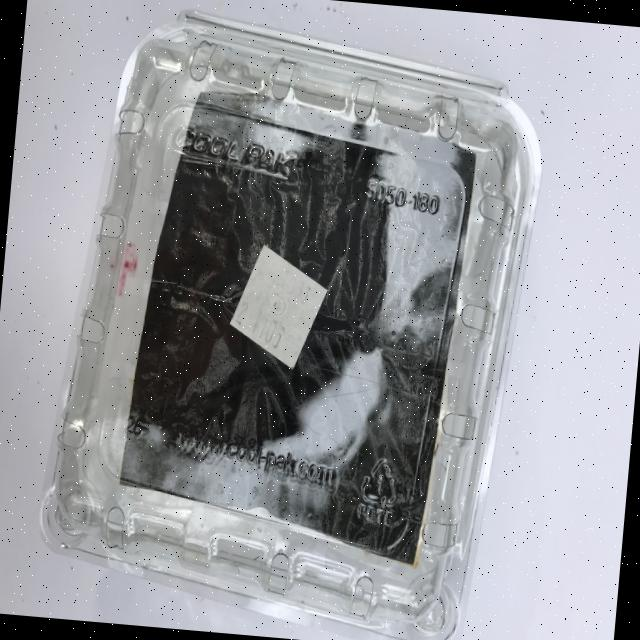plastic: (30, 0, 552, 640)
